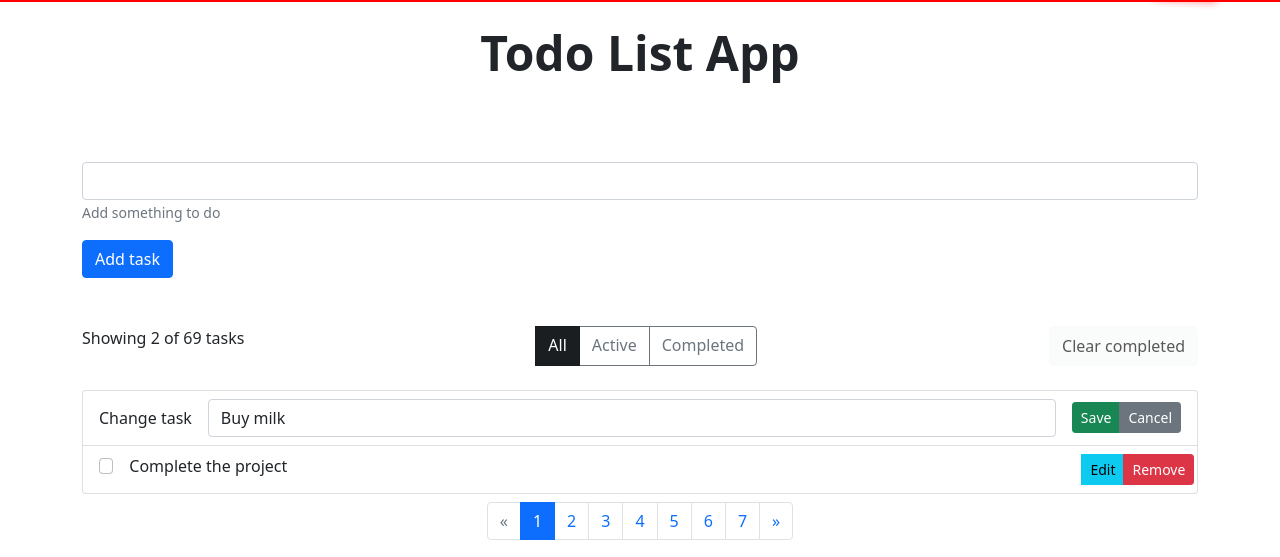
Test: <App /> › should paginate the list
This screenshot has width=1280, height=557.
What coordinates should you click on to do the following:
click the button "2"
I would click on:
 (572, 521)
Its box is [554,502,589,540].
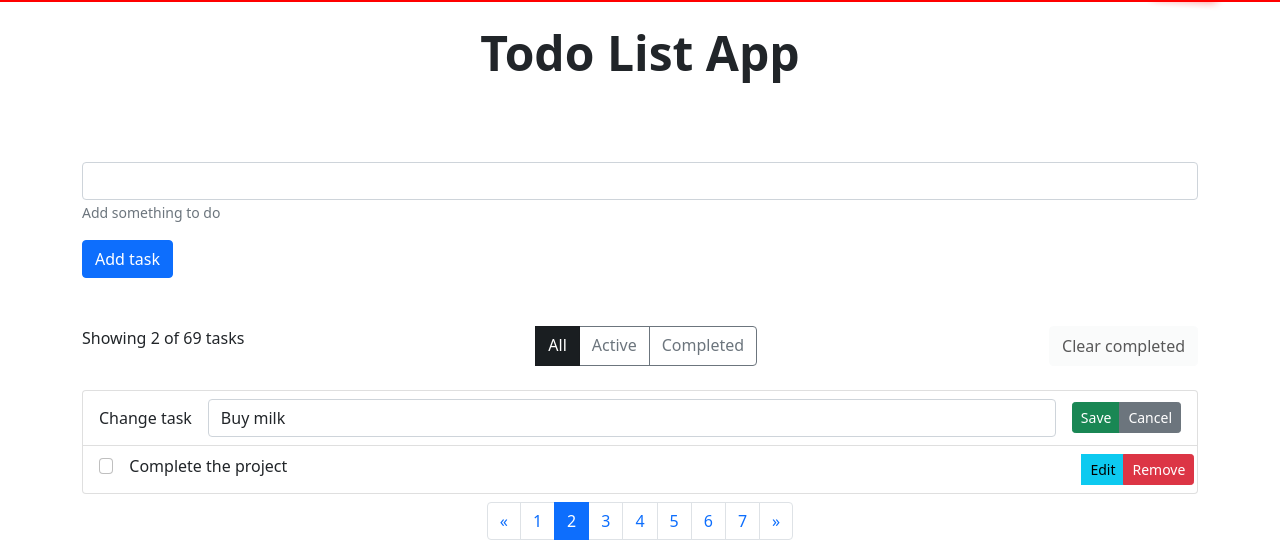
Check: the button "2" is disabled, box [554,502,589,540]
